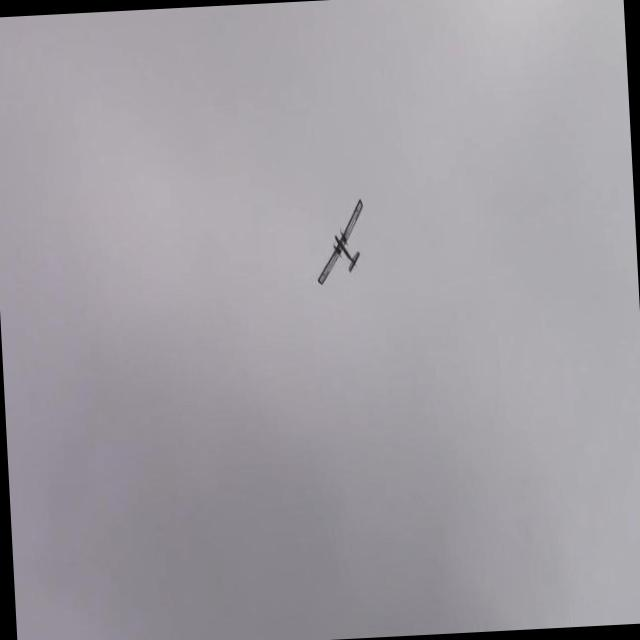UAV: (311, 185, 389, 288)
